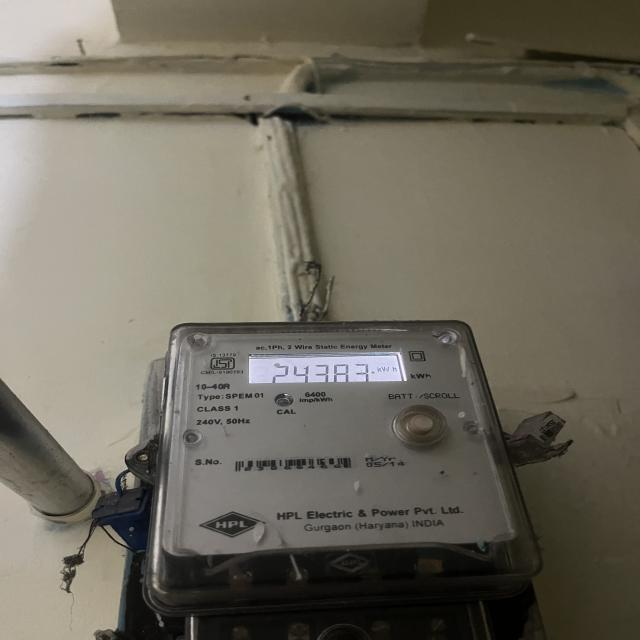display: (242, 350, 399, 390)
